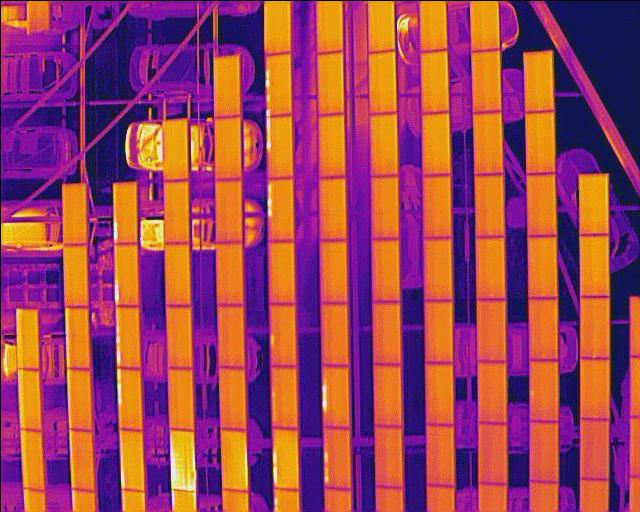Cell: (268, 302, 297, 365)
Cell-Multi: (264, 52, 292, 114)
No-Anomaly: (474, 172, 505, 236), (523, 110, 555, 172), (475, 235, 506, 298), (372, 425, 403, 488), (528, 418, 558, 483), (318, 302, 348, 366), (527, 359, 557, 422), (579, 356, 609, 419), (527, 298, 557, 361), (526, 173, 556, 236), (372, 363, 401, 428), (477, 297, 506, 362), (580, 293, 609, 358), (214, 177, 243, 242), (422, 174, 451, 239), (474, 111, 503, 176), (478, 418, 507, 483), (422, 236, 451, 300), (370, 174, 399, 238), (422, 111, 451, 175), (579, 234, 609, 295), (523, 50, 553, 111), (472, 49, 502, 110), (216, 242, 245, 305), (162, 241, 191, 304), (579, 172, 608, 235), (369, 112, 398, 175), (420, 49, 449, 112), (319, 238, 347, 303), (220, 426, 248, 491), (371, 301, 399, 365), (371, 237, 399, 301), (528, 234, 556, 298), (426, 421, 454, 485), (268, 365, 296, 428), (216, 304, 244, 367), (267, 240, 295, 303), (479, 360, 506, 425), (425, 362, 452, 426), (317, 113, 344, 177), (68, 429, 95, 493), (580, 419, 608, 480), (162, 116, 189, 179), (214, 115, 241, 178), (369, 50, 396, 113), (425, 299, 451, 364), (162, 180, 188, 245), (319, 178, 346, 240), (317, 51, 343, 115), (220, 366, 245, 432), (166, 305, 192, 368), (167, 367, 193, 429), (65, 305, 90, 369), (19, 427, 44, 491), (62, 182, 87, 245), (68, 366, 92, 431), (16, 368, 41, 430), (62, 244, 87, 306), (215, 54, 240, 116), (15, 308, 38, 371)
Unclassified: (266, 176, 294, 241), (322, 427, 351, 488), (322, 364, 349, 427), (271, 425, 298, 488), (266, 114, 292, 176), (114, 242, 139, 306), (117, 367, 142, 430), (170, 428, 195, 491), (119, 427, 144, 490), (115, 306, 140, 368), (112, 182, 136, 243)
